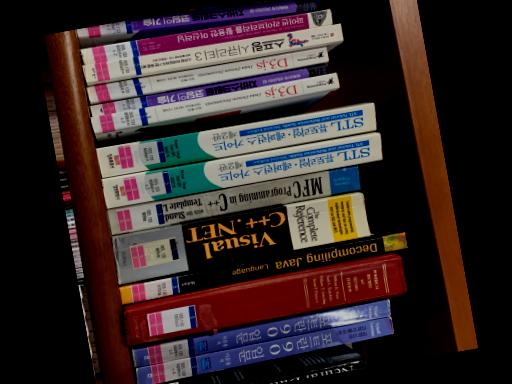book-spine: (122, 255, 406, 346), (111, 193, 370, 284), (95, 103, 376, 178), (101, 134, 382, 209), (119, 233, 407, 305), (132, 299, 390, 367), (135, 317, 393, 384), (106, 167, 359, 235), (81, 23, 342, 82), (90, 72, 339, 133), (79, 9, 332, 64), (86, 46, 328, 103), (90, 63, 329, 117), (76, 0, 316, 37), (249, 358, 366, 384)
